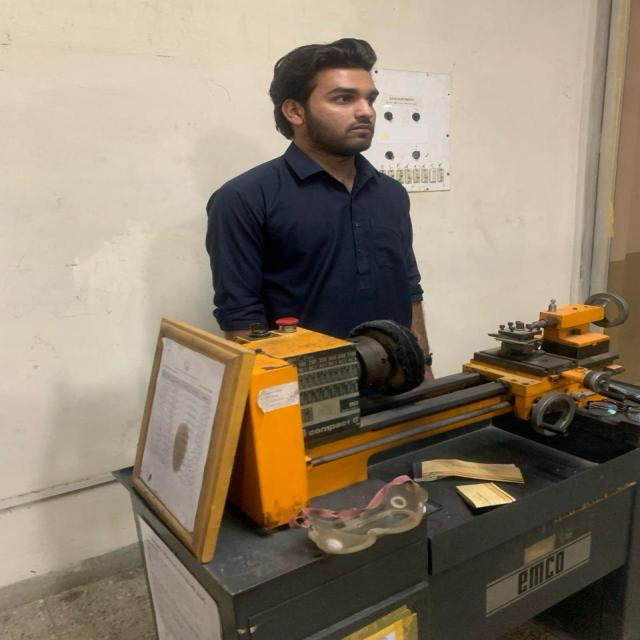dress: (201, 140, 427, 349)
